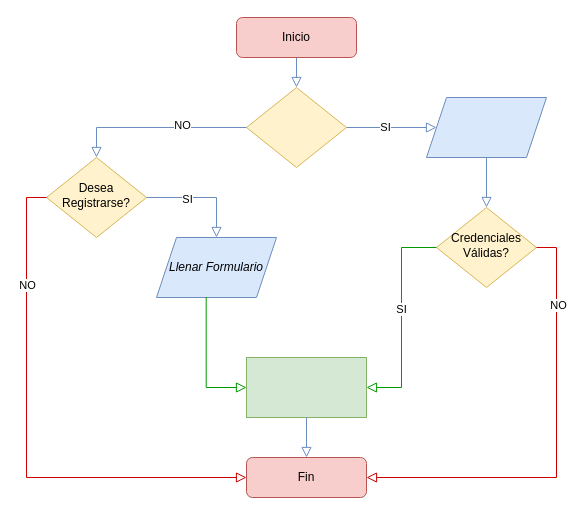
This 584x515 diagram has some shape labels left out. The box of each missing label's shape, as (x1, y1, x2, y2) in pixels:
Ingresa al Sistema: (246, 356, 366, 418)
Ingresar Credenciales: (426, 96, 546, 158)
Usuario Existe?: (246, 86, 346, 168)
